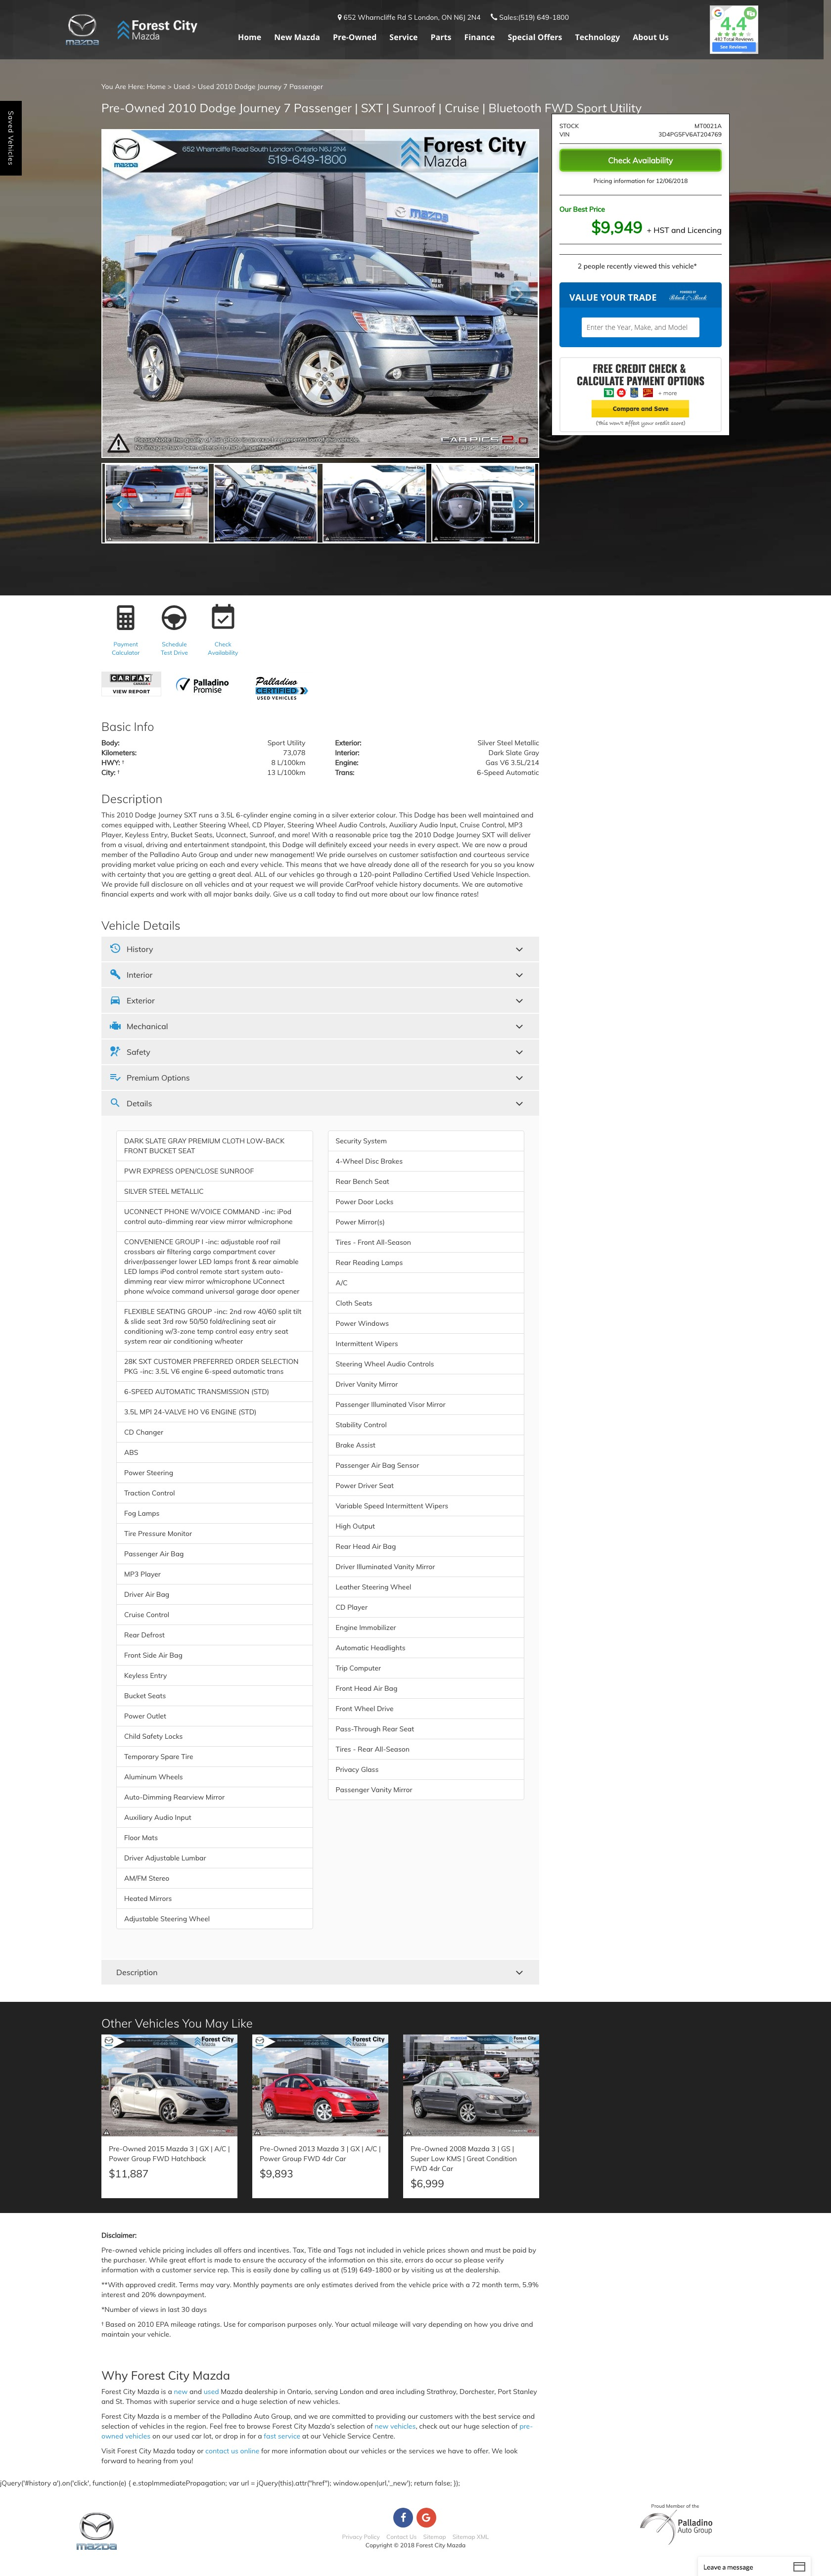car: (512, 496, 529, 513)
